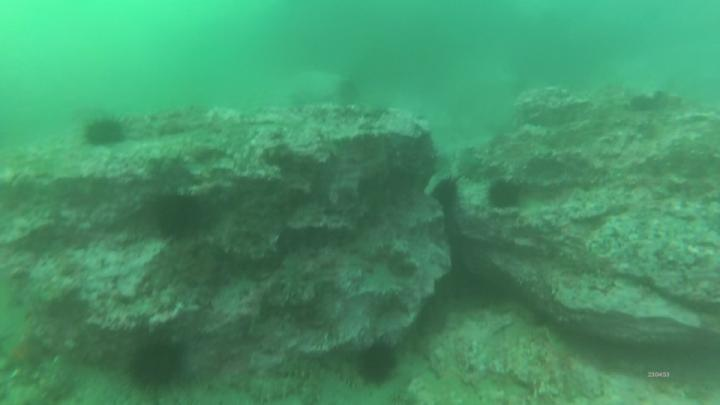echinus: (129, 344, 182, 388), (154, 196, 203, 236), (358, 346, 396, 387), (85, 120, 125, 144), (490, 182, 519, 210), (435, 180, 460, 205)
starfish: (3, 329, 44, 374)
